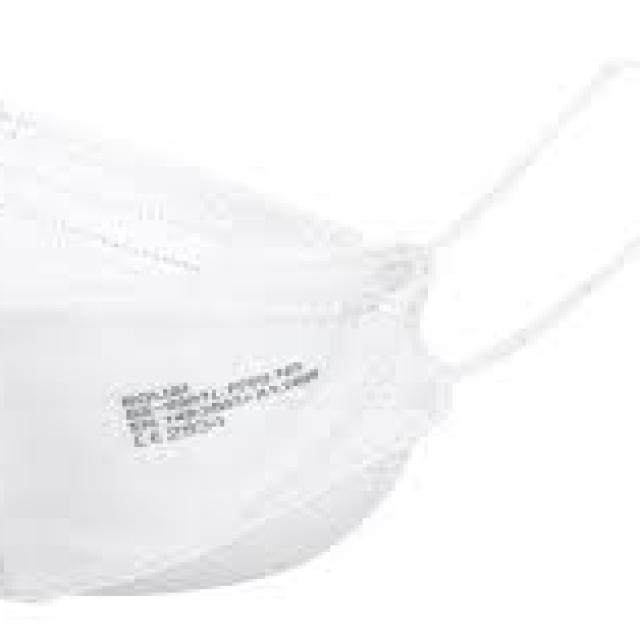organic: (0, 94, 615, 609)
